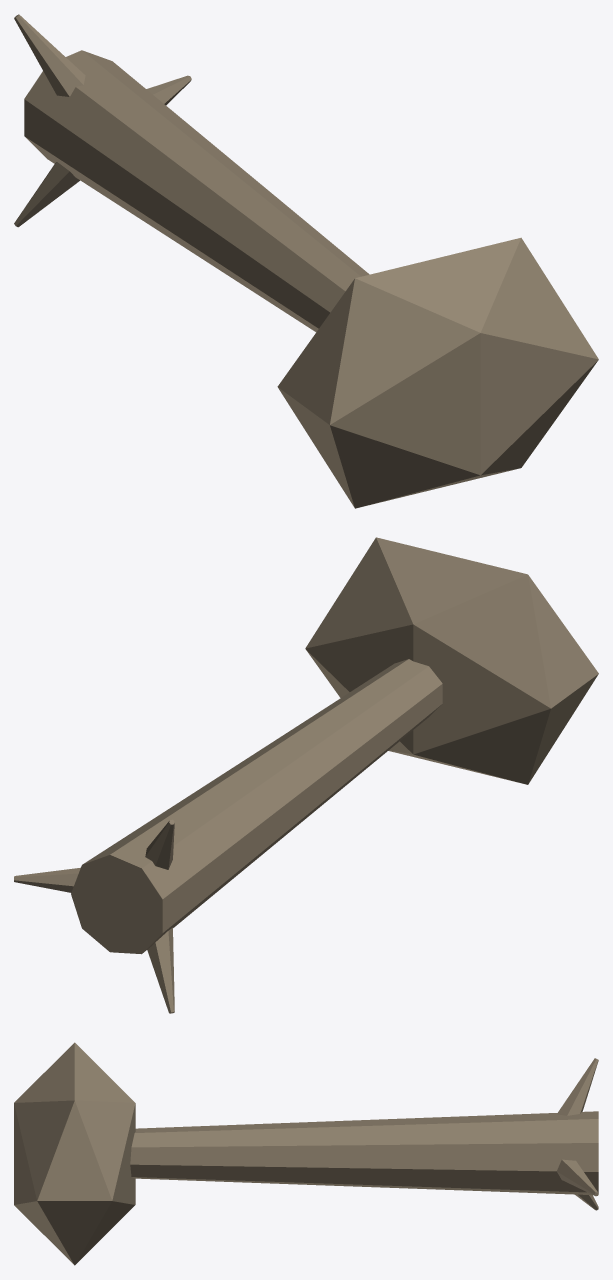
File: FOREST_TREE_MODULE.glb
3 views of the same model, one above another, from view 1: azimuth 30°, elevation 25°; view 2: azimuth 150°, elevation 25°; view 3: azimuth 270°, elevation 25° (orthographic). The views are drawn at different scales.
Visible parts, largest first — view 1: FOREST_TREE_MODULE; view 2: FOREST_TREE_MODULE; view 3: FOREST_TREE_MODULE.
Boxes of the visible parts, x1,y1,x2,y2 form: FOREST_TREE_MODULE: (14, 14, 598, 508); FOREST_TREE_MODULE: (14, 537, 598, 1013); FOREST_TREE_MODULE: (14, 1042, 598, 1265).
Bounding box in the file's own units: 3.74 × 3.06 × 9.83.
